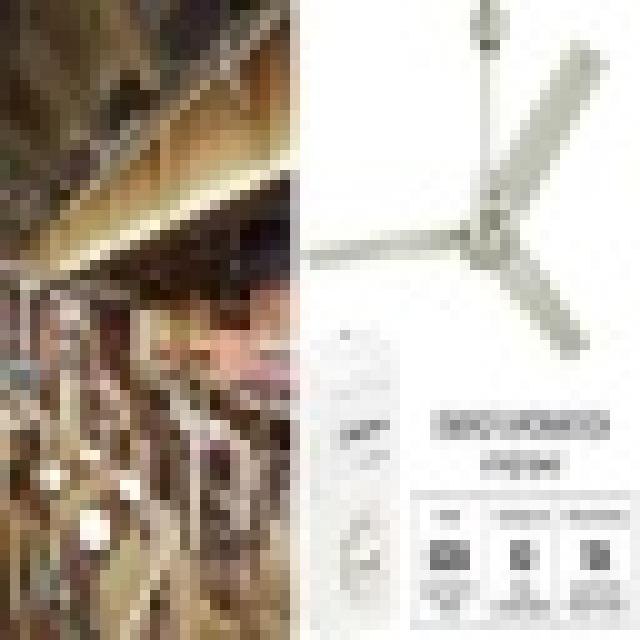Bulb: (316, 78, 621, 354)
